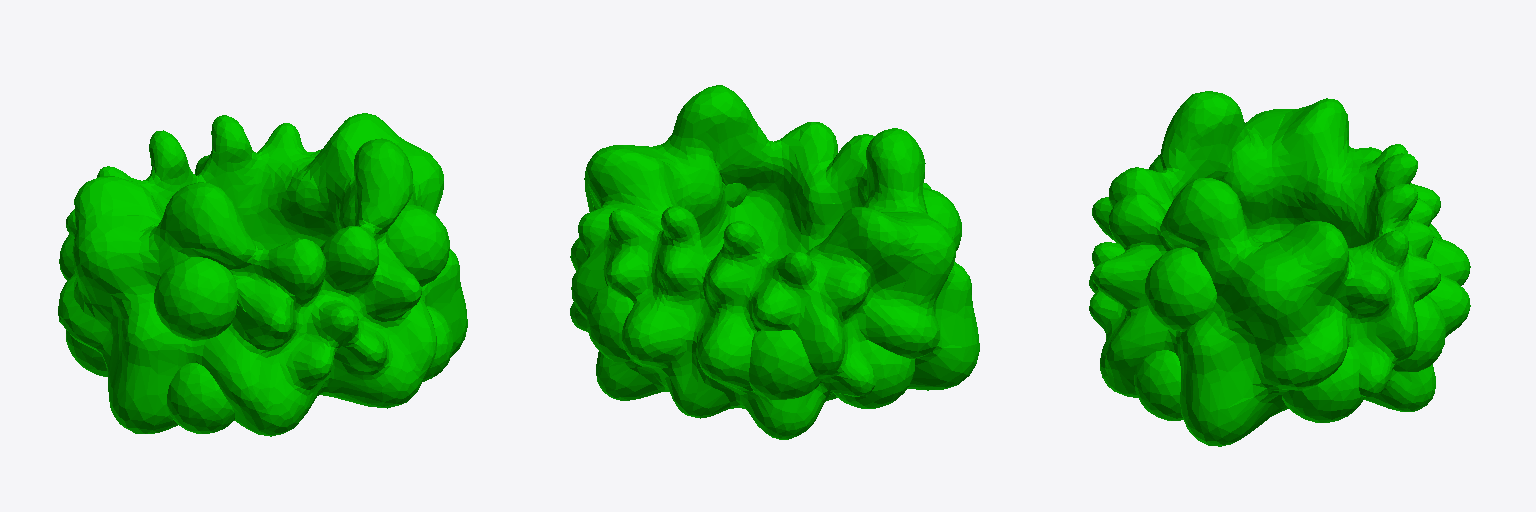
The model's file is blob.obj.
3 views of the same model, side by side, from view 1: azimuth 30°, elevation 25°; view 2: azimuth 150°, elevation 25°; view 3: azimuth 270°, elevation 25° (orthographic).
Parts seen in each view (by area): view 1: blob; view 2: blob; view 3: blob.
Boxes of the visible parts, <box> form: blob: <box>58,113,467,436</box>; blob: <box>570,85,979,439</box>; blob: <box>1089,91,1470,446</box>.
Size of the model in its own units: 3.99 by 2.52 by 3.64.